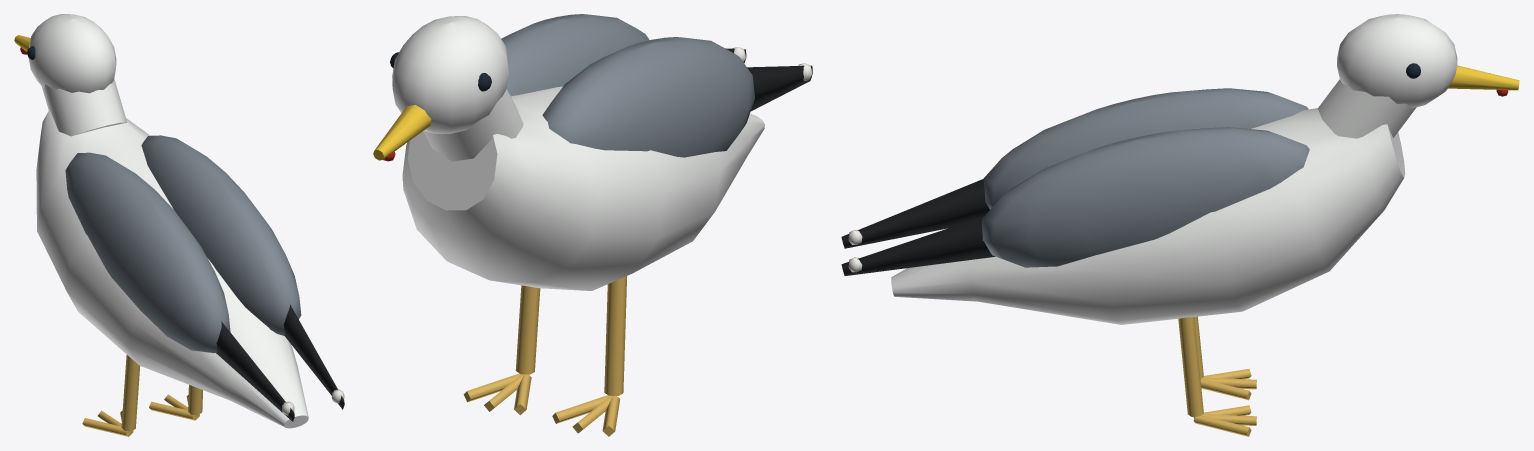
File: gull_perched.glb
3 renders of one model, left to right at view 1: azimuth 30°, elevation 25°; view 2: azimuth 150°, elevation 25°; view 3: azimuth 270°, elevation 25°, orthographic. The views are drawn at different scales.
Visible parts, largest first — view 1: gull_body, wing_l, wing_r; view 2: gull_body, wing_l, wing_r; view 3: gull_body, wing_r, wing_l.
Boxes of the visible parts, x1,y1,x2,y2 form: gull_body: (14, 14, 308, 436); wing_l: (65, 152, 294, 421); wing_r: (141, 135, 344, 409); gull_body: (373, 16, 764, 436); wing_l: (542, 37, 812, 157); wing_r: (501, 14, 746, 96); gull_body: (891, 14, 1519, 436); wing_r: (841, 127, 1309, 275); wing_l: (841, 88, 1308, 248).
Bounding box in the file's own units: 0.1562 × 0.3183 × 0.5018.
